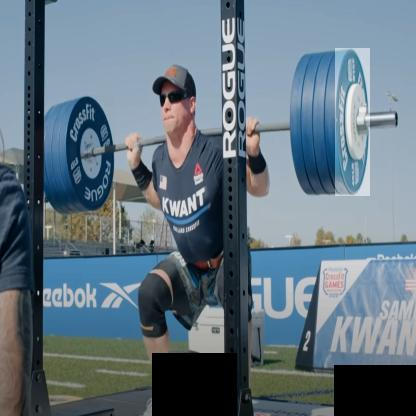barbell: (66, 96, 116, 212), (336, 49, 371, 197)
